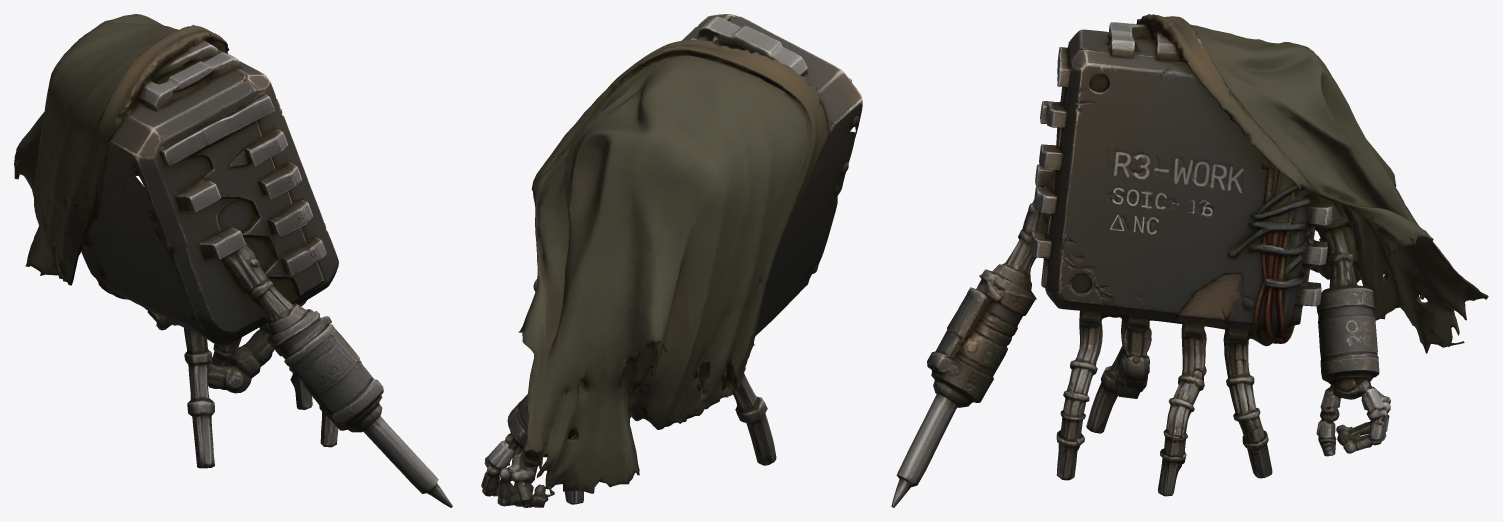
File: R3WORK.glb
The picture shows the model from 3 angles, left to right: view 1: azimuth 30°, elevation 25°; view 2: azimuth 150°, elevation 25°; view 3: azimuth 270°, elevation 25°; orthographic projection. The views are drawn at different scales.
Parts seen in each view (by area): view 1: tripo_node_41267378-cdb7-43a1-a712-f37212ea4f20; view 2: tripo_node_41267378-cdb7-43a1-a712-f37212ea4f20; view 3: tripo_node_41267378-cdb7-43a1-a712-f37212ea4f20.
Part boxes in pixels (left/top/right/bottom): tripo_node_41267378-cdb7-43a1-a712-f37212ea4f20: left=14, top=14, right=452, bottom=507; tripo_node_41267378-cdb7-43a1-a712-f37212ea4f20: left=481, top=14, right=862, bottom=507; tripo_node_41267378-cdb7-43a1-a712-f37212ea4f20: left=891, top=14, right=1488, bottom=507.
Bounding box in the file's own units: 0.4512 × 0.7659 × 0.9969.
1 material, 1 textured.
